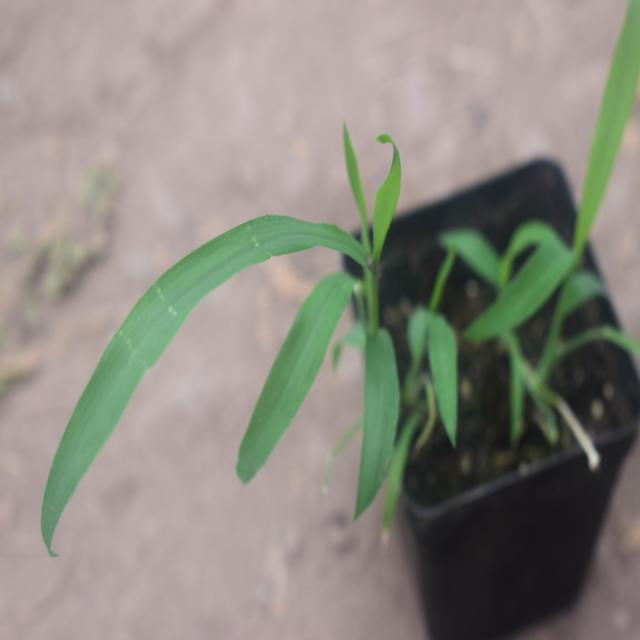crabgrass: (35, 95, 413, 493)
